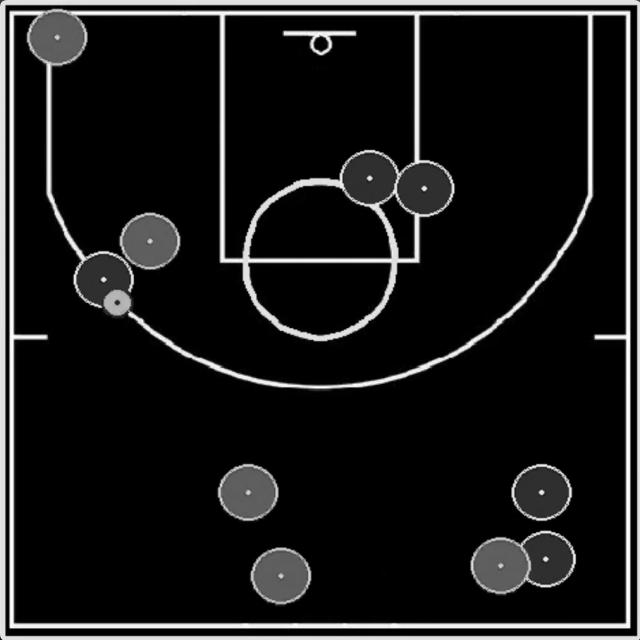Basketball: (102, 289, 132, 318)
Team_A: (74, 251, 133, 308), (512, 464, 572, 520), (396, 161, 455, 216), (341, 150, 398, 206), (521, 531, 576, 588)
Team_B: (120, 212, 180, 270), (250, 548, 311, 605), (218, 464, 278, 521), (27, 10, 88, 66), (471, 538, 531, 594)
